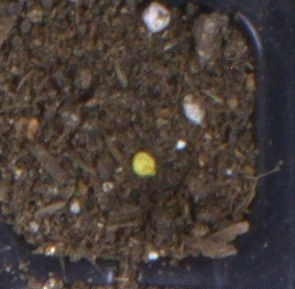chilli seed: (131, 151, 157, 177)
